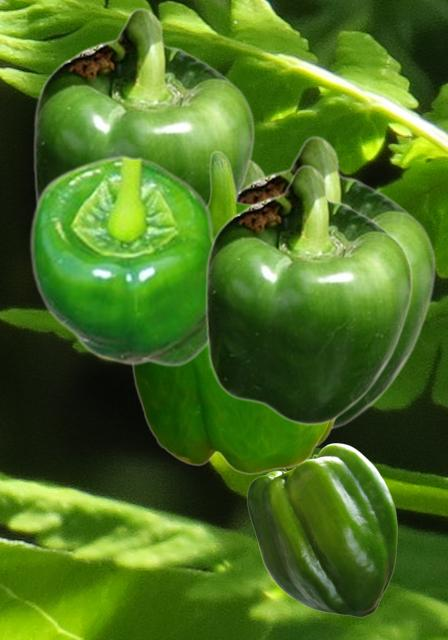bell_pepper: (131, 150, 337, 474), (239, 135, 435, 429), (204, 164, 412, 425), (32, 7, 254, 206), (28, 154, 217, 366), (246, 442, 396, 616)
